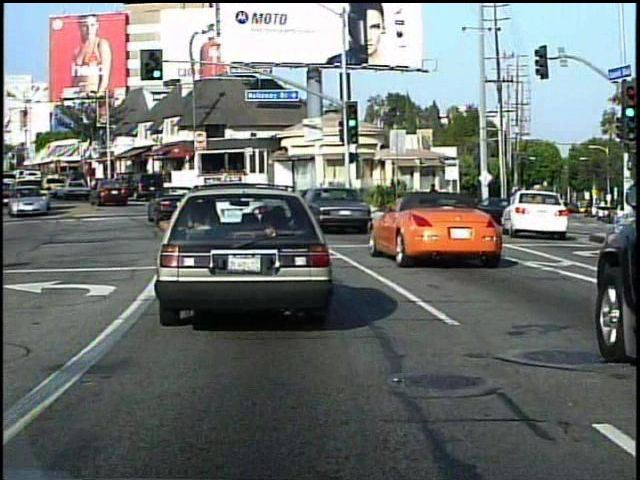person: (425, 182, 442, 220)
